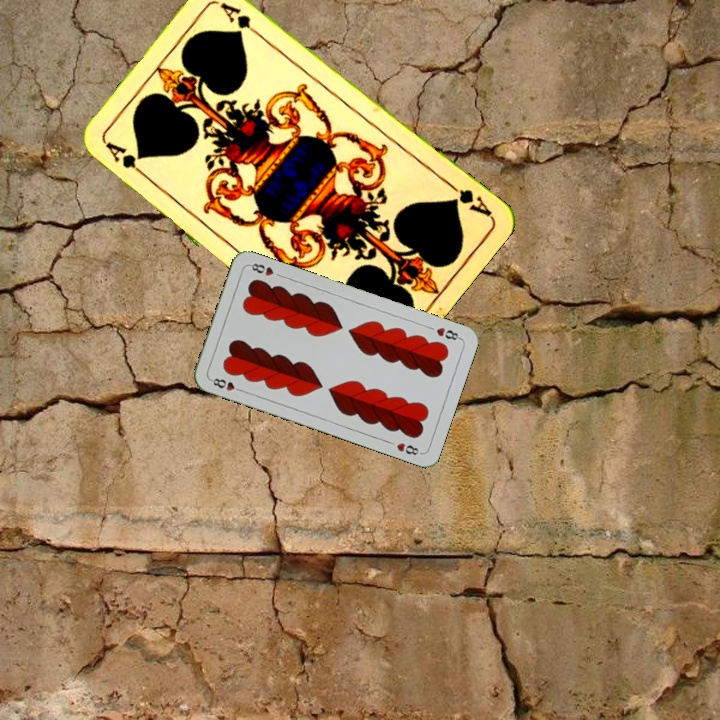GA: (101, 138, 151, 182), (443, 177, 494, 220)
H8: (206, 374, 246, 394), (432, 323, 463, 343)
